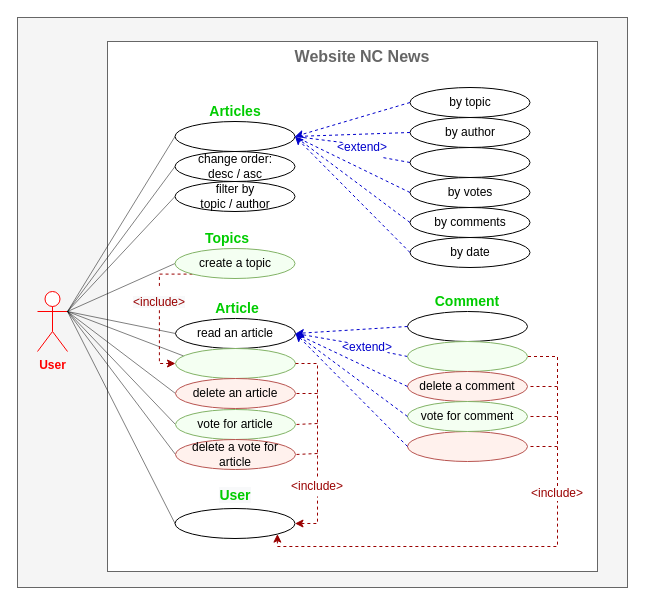
Image size: 645x605. Some labels were removed from this diagram. The shapes that lost their labels are listed below. From the top down, each one's box as (x1, y1, x2, y2) in pixels, then its label:
(174, 120, 295, 152): sort
(409, 146, 530, 178): by title
(406, 310, 528, 342): read comments
(174, 348, 296, 378): post an article
(406, 340, 528, 372): post a comment under the article
(406, 430, 528, 462): delete a vote for comment
(174, 508, 295, 538): log in
